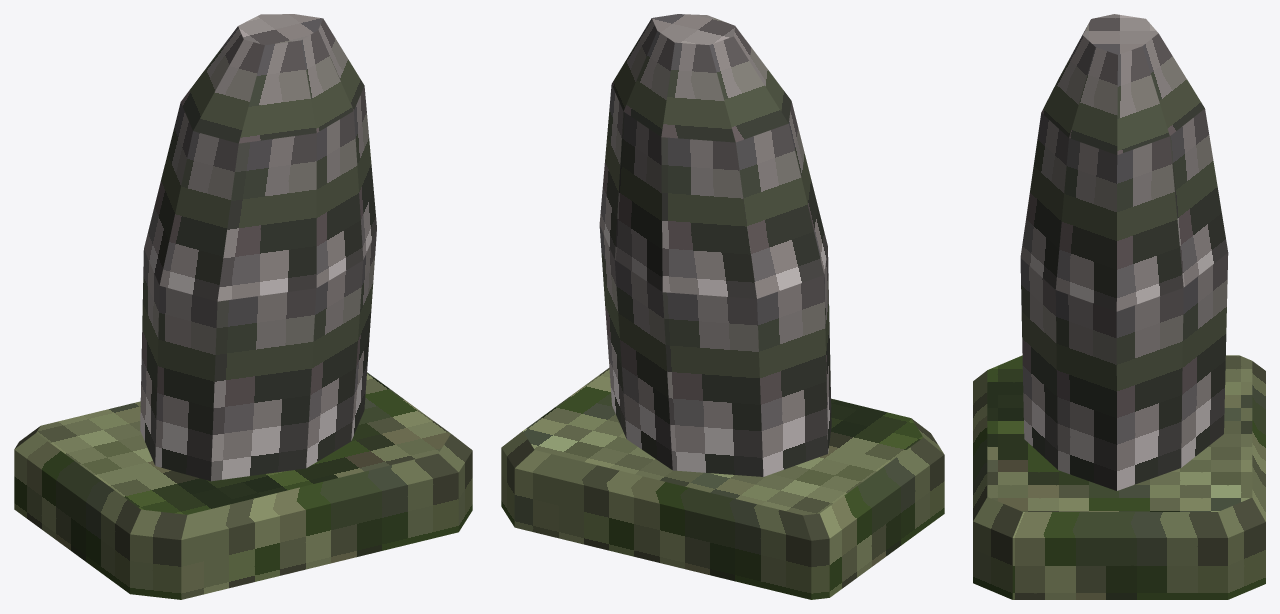
File: MemorialMarkerSmallB.glb
3 renders of one model, left to right at view 1: azimuth 30°, elevation 25°; view 2: azimuth 150°, elevation 25°; view 3: azimuth 270°, elevation 25°, orthographic. The views are drawn at different scales.
Parts seen in each view (by area): view 1: MemorialMarkerSmallB; view 2: MemorialMarkerSmallB; view 3: MemorialMarkerSmallB.
Boxes of the visible parts, x1,y1,x2,y2 form: MemorialMarkerSmallB: [14, 14, 472, 599]; MemorialMarkerSmallB: [501, 14, 944, 599]; MemorialMarkerSmallB: [973, 14, 1265, 599].
Bounding box in the file's own units: 0.42 × 0.56 × 0.3.
Materials: 2 (2 with a texture image).
